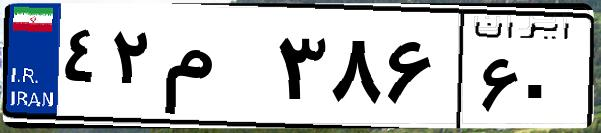0: (525, 38, 570, 115)
2: (110, 28, 158, 98)
3: (270, 28, 330, 110)
4: (57, 26, 110, 100)
6: (385, 28, 445, 110), (475, 38, 525, 113)
8: (330, 28, 385, 110)
م: (158, 20, 270, 120)
